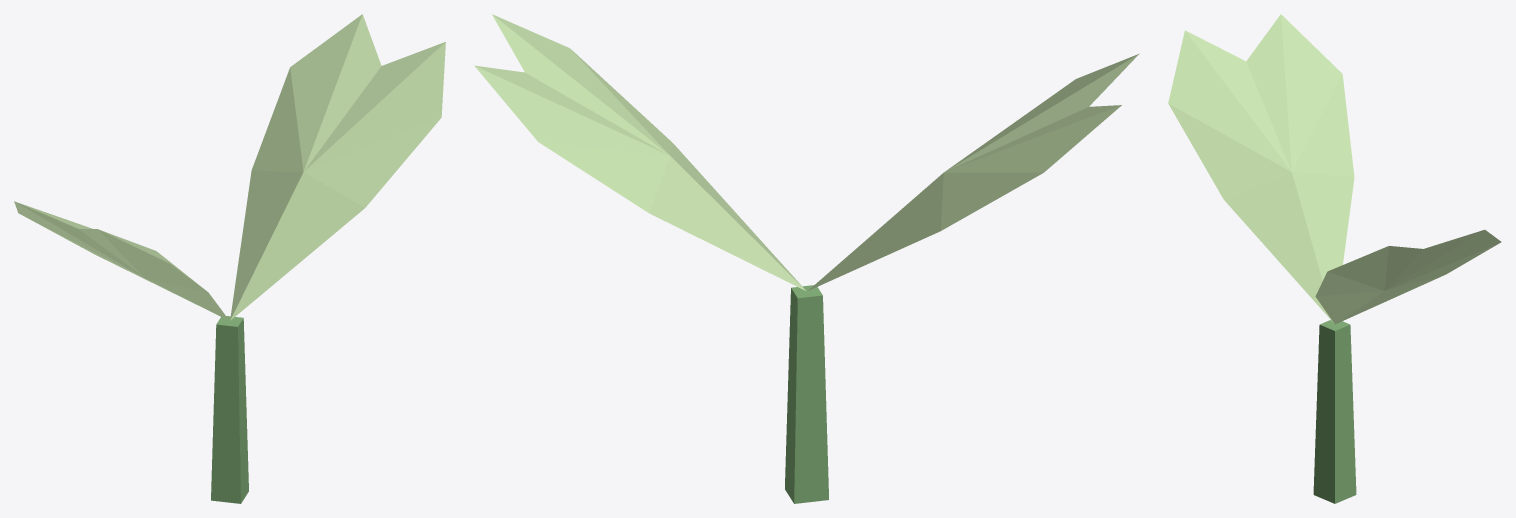
File: crop_clover_s0.glb
3 views of the same model, side by side, from view 1: azimuth 30°, elevation 25°; view 2: azimuth 150°, elevation 25°; view 3: azimuth 270°, elevation 25° (orthographic). The views are drawn at different scales.
Parts seen in each view (by area): view 1: crop_clover_s0; view 2: crop_clover_s0; view 3: crop_clover_s0.
Part boxes in pixels (box(x1,y1,x2,y2)): crop_clover_s0: box(14, 14, 445, 503); crop_clover_s0: box(474, 14, 1139, 503); crop_clover_s0: box(1168, 14, 1501, 503).
Size of the model in its own units: 0.1737 by 0.1275 by 0.1056.
